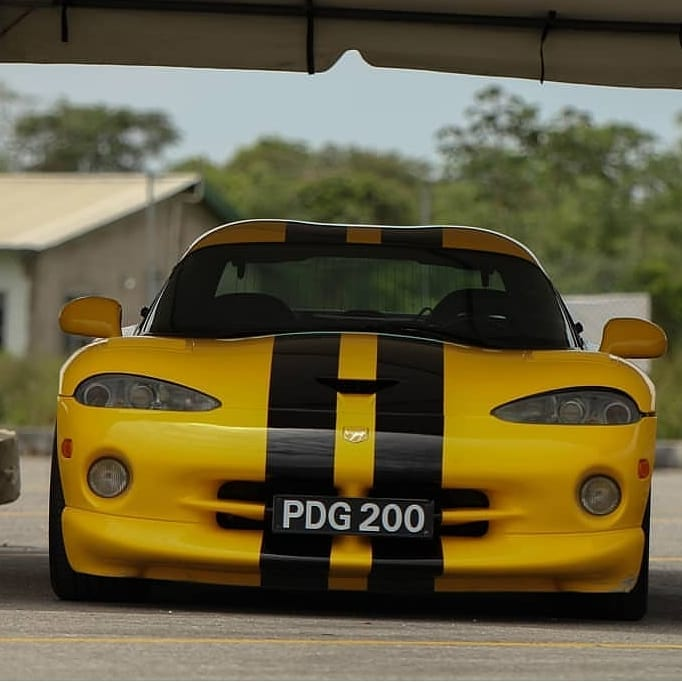License-Plate: (275, 494, 433, 529)
